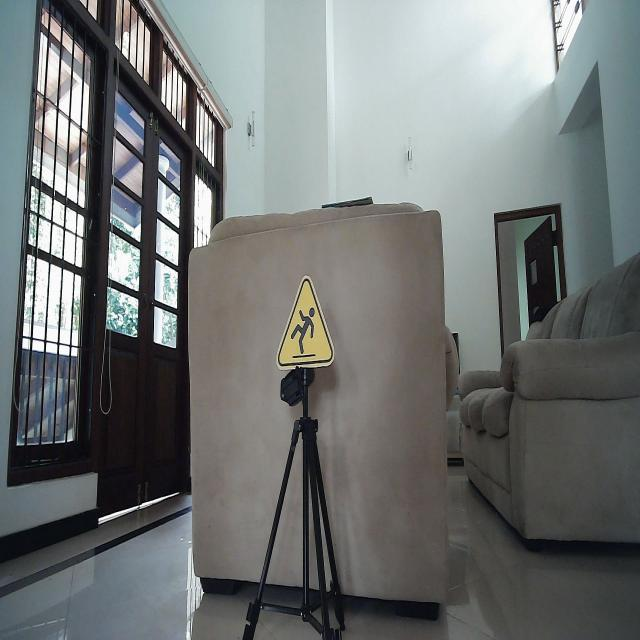slippery_sign: (274, 273, 337, 372)
